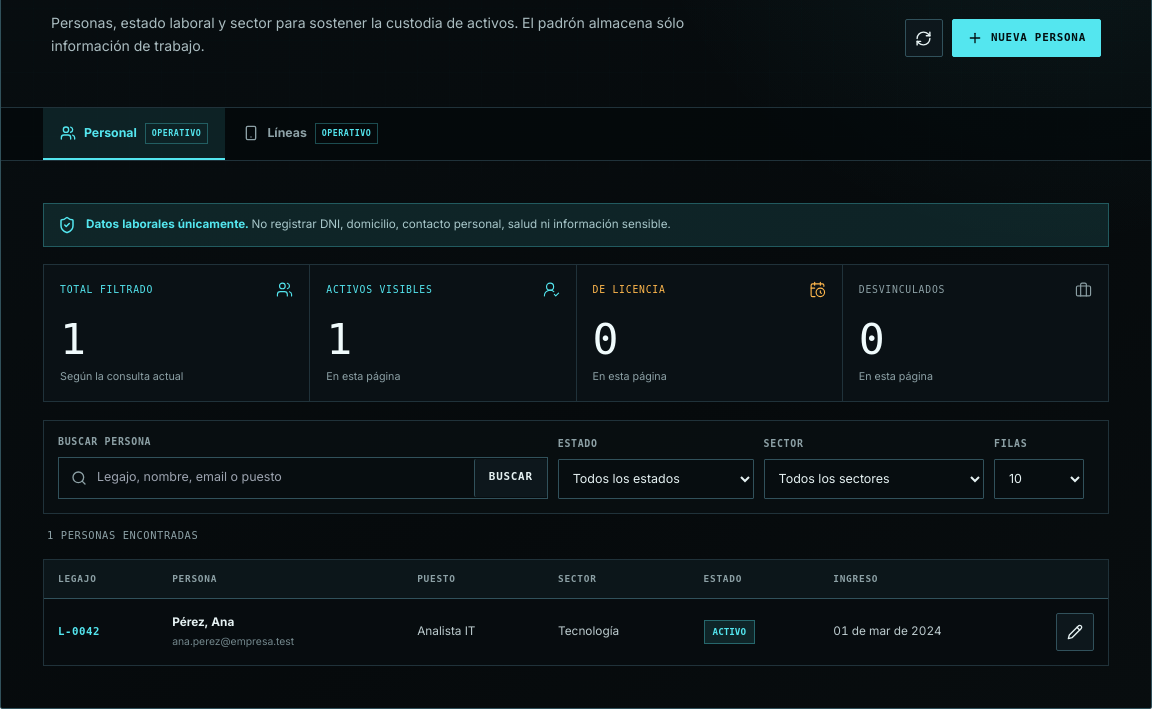
ItStaffPage › recarga la versión actual cuando PATCH devuelve PERSON_VERSION_CONFLICT
This screenshot has width=1152, height=709.
(page scrolled)
What coordinates should you click on to do the following:
click the button named "Editar Ana Pérez"
I would click on:
 (1075, 632)
Its box is [1056,613,1094,651].
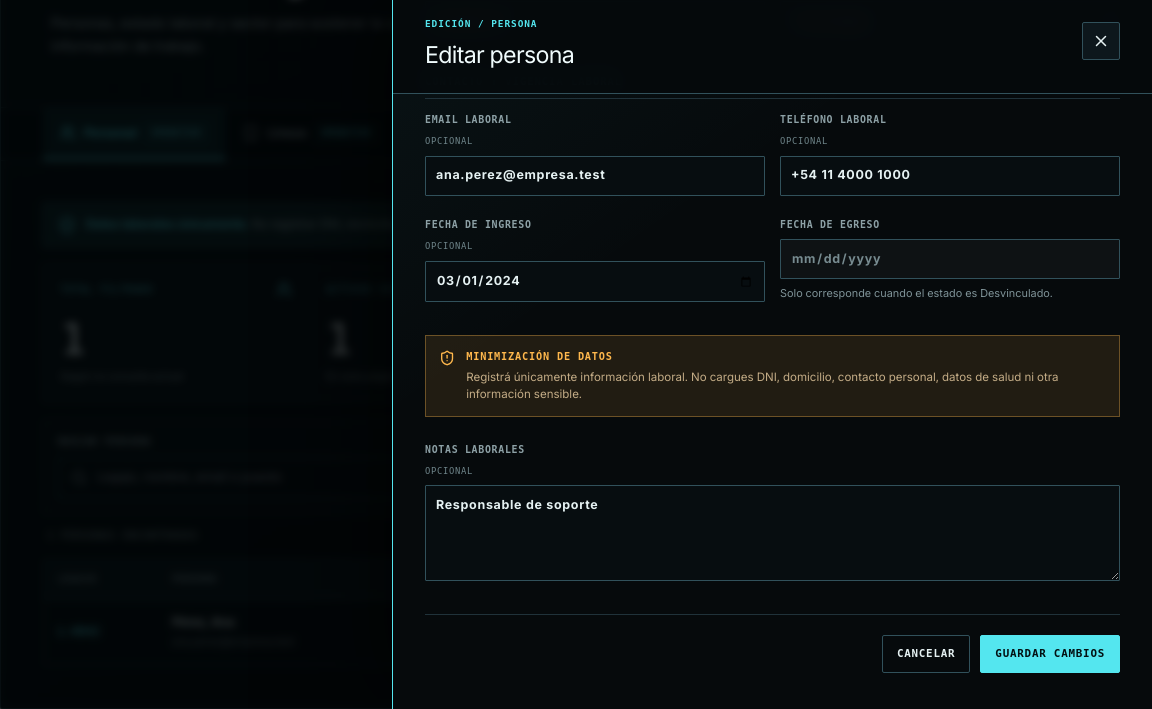
What coordinates should you click on to do the following:
click the button "Guardar cambios"
I would click on:
 (1050, 654)
Its box is [980,635,1120,673].
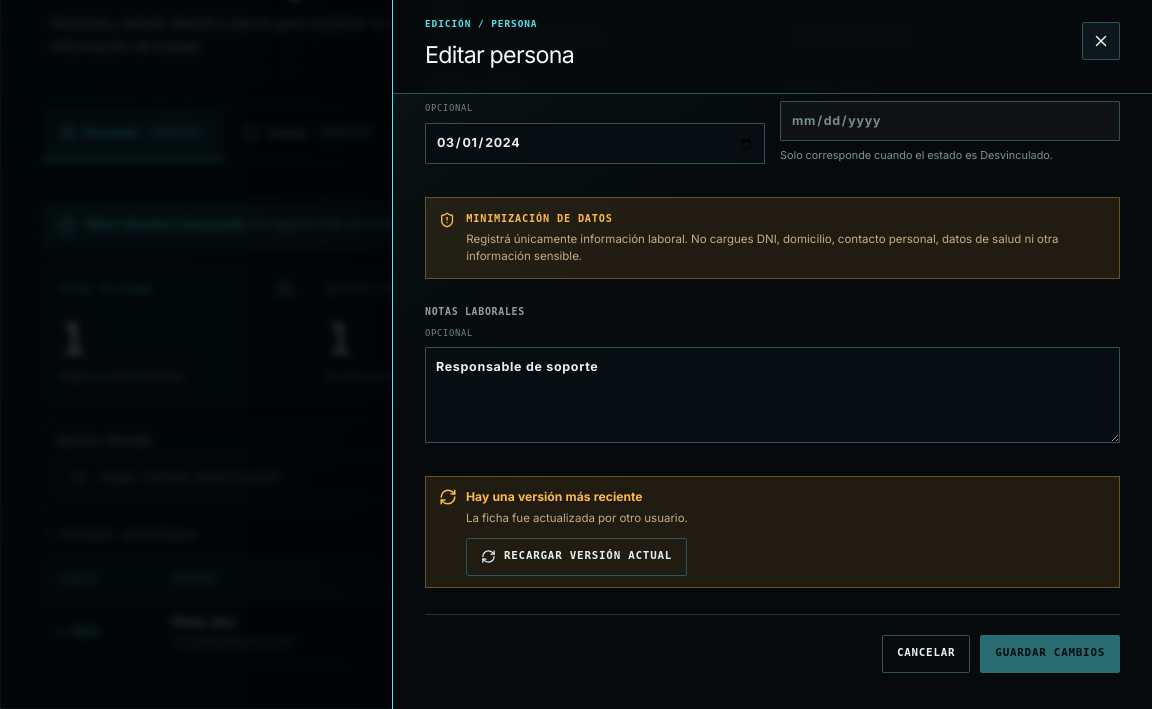
Check: the text "Hay una versión más reciente" is shown, box [466,489,643,504]
What coordinates should you click on to do the following:
click the button "Recargar versión actual"
I would click on:
 (577, 557)
Its box is [466,538,687,576].
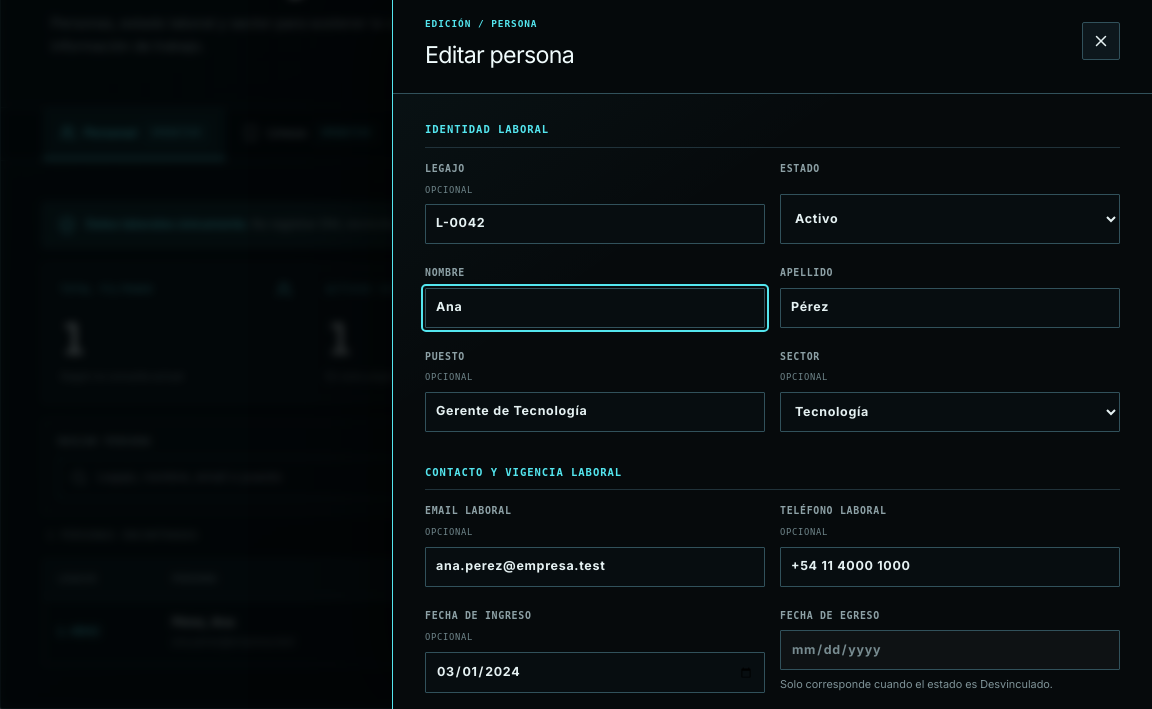
Check: the field showing "Gerente de Tecnología" is shown, box [425,392,765,432]
